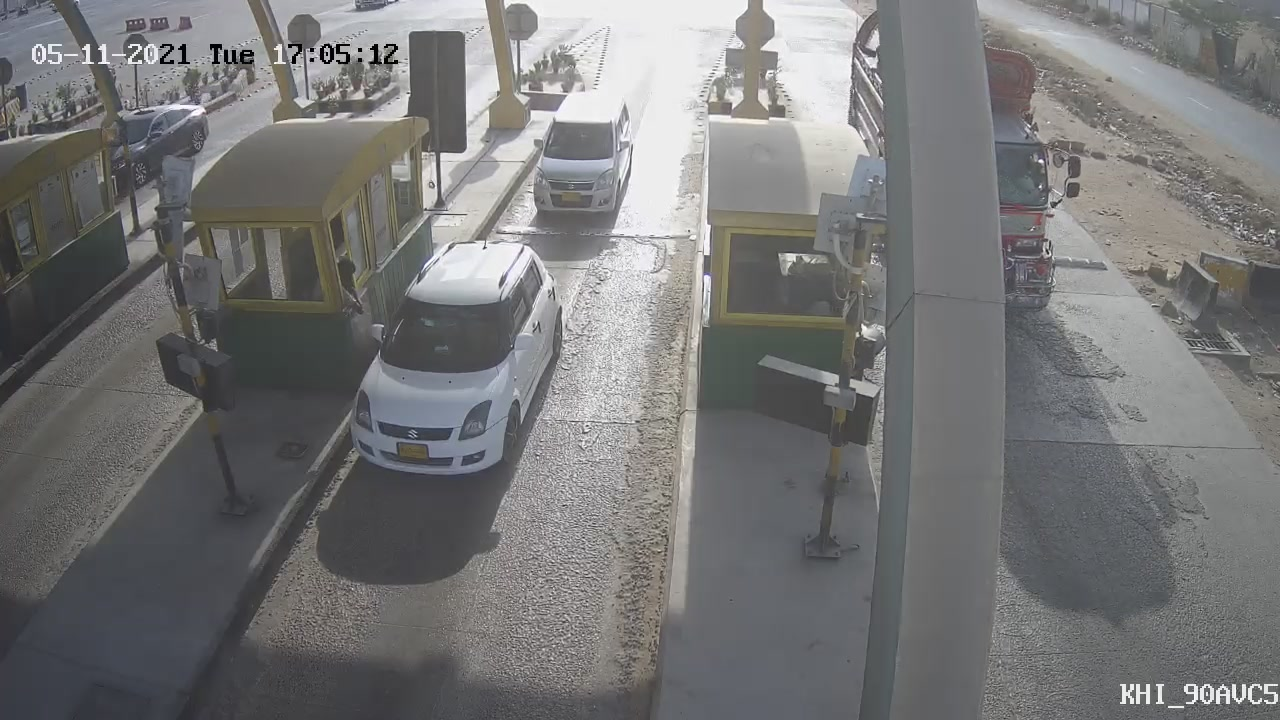F1: (322, 222, 586, 499), (508, 73, 652, 236)
